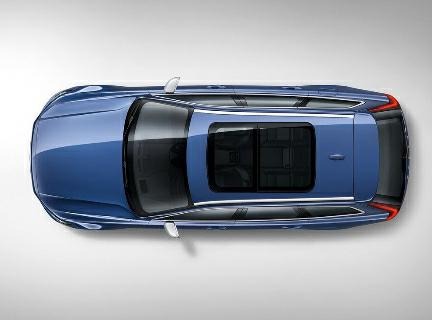沃尔沃-C30: (25, 71, 415, 247)
